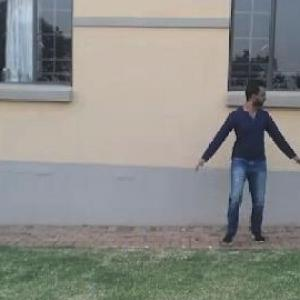land: (190, 74, 296, 253)
